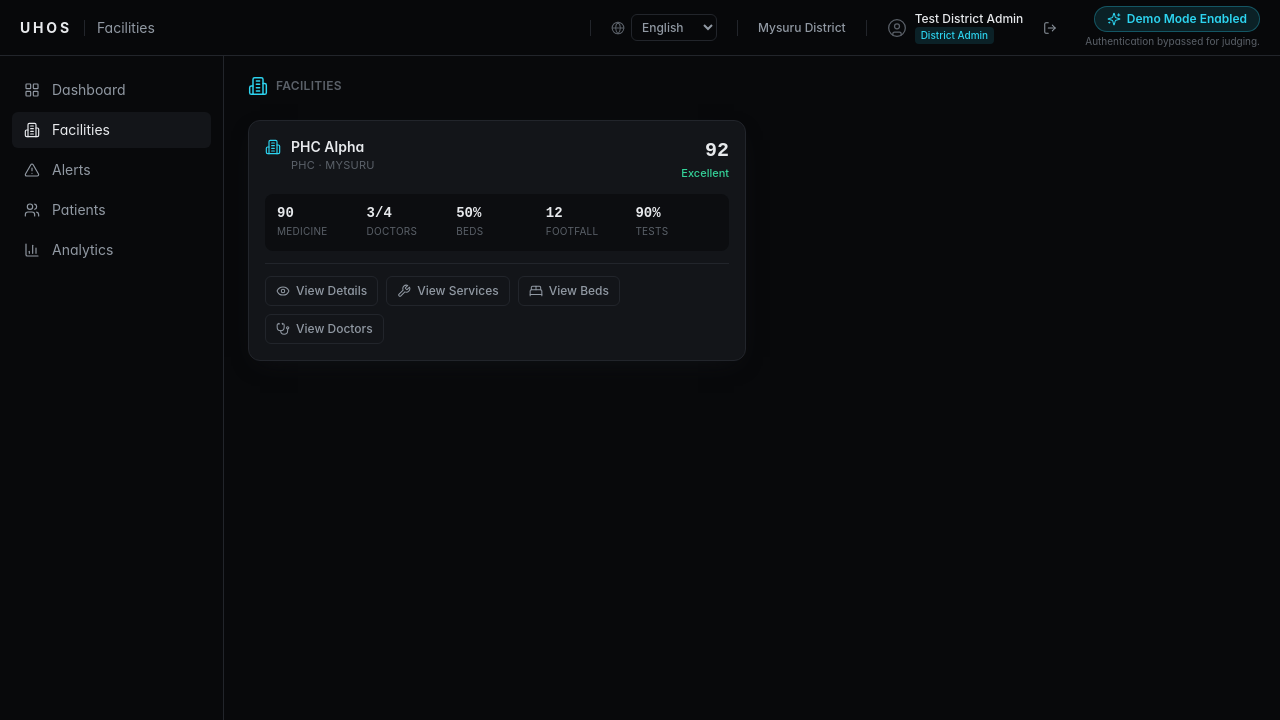
Facilities page › opens the Doctors tab and shows facility doctors
Expected: the text "PHC Alpha" is shown, [291,137,375,157]
Click the button "View Doctors": click(324, 328) [265,314,384,344]
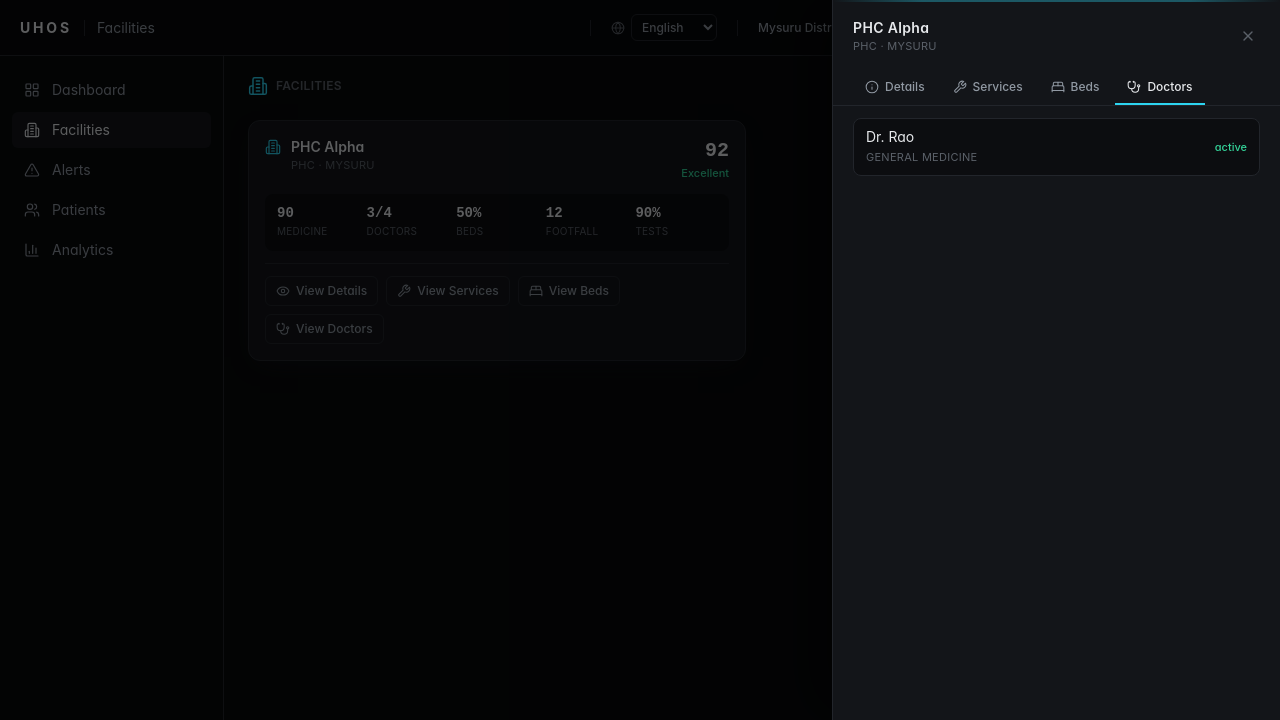
Now the text "Dr. Rao" is shown, box [866,128,914,144]
